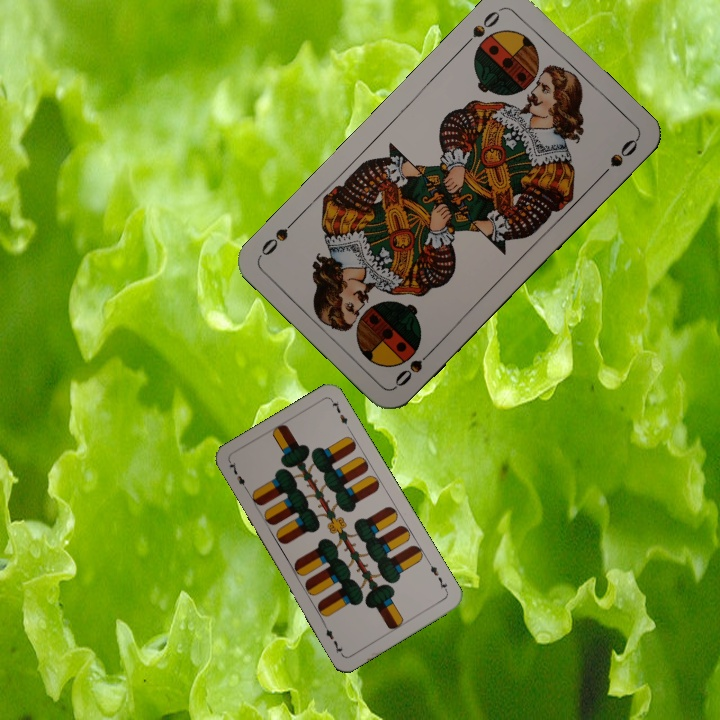E7: (425, 558, 451, 595), (225, 458, 251, 495)
SO: (390, 343, 438, 390), (458, 4, 505, 51)
